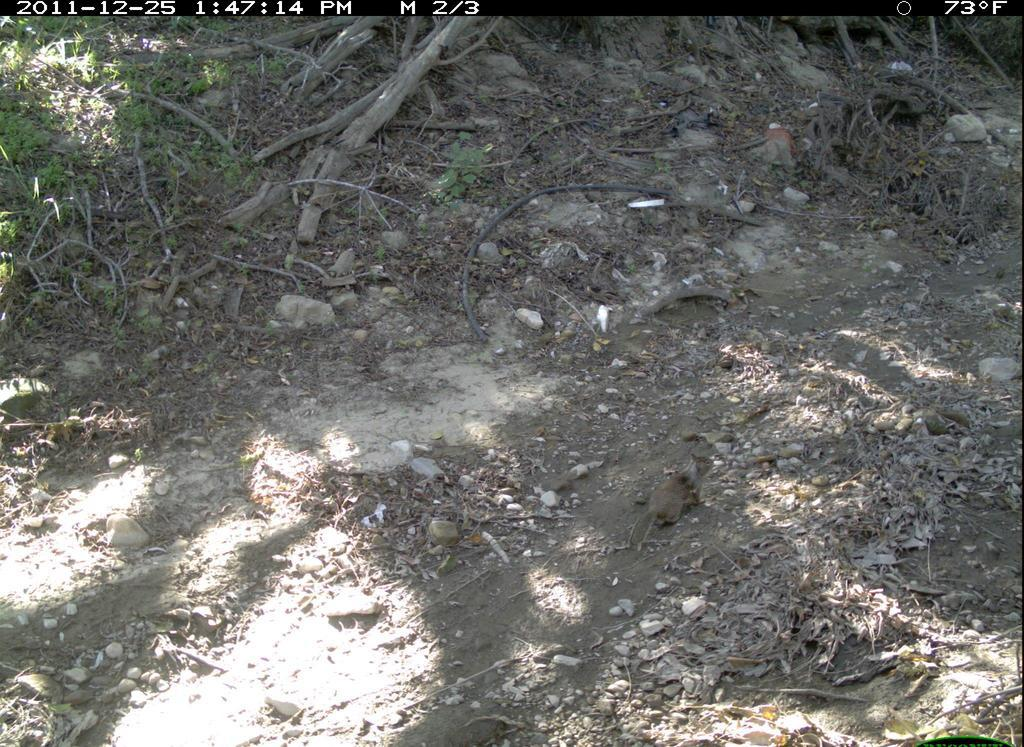squirrel: (623, 447, 721, 555)
